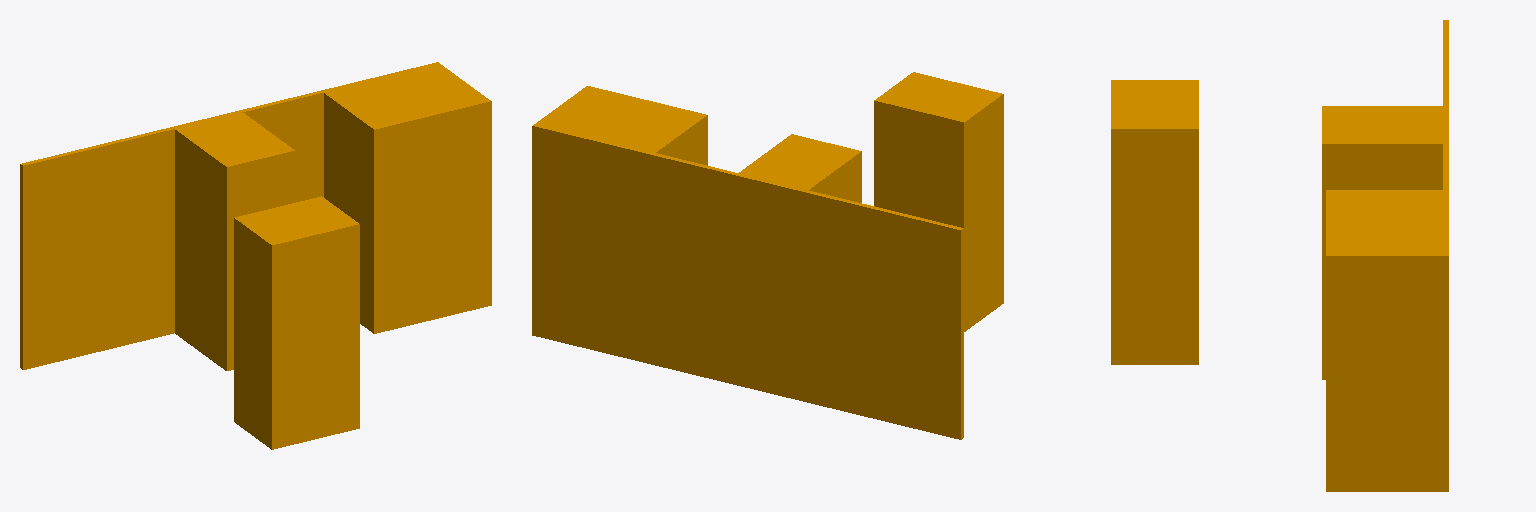
The robot description file, URDF, robot "Floorplan_demo_ROPOD":
<?xml version="1.0"?>
<robot name="Floorplan_demo_ROPOD">


<link name="map">
	<inertial>
		<mass value="500"/>
		<inertia
			ixx="1000.0" ixy="0.0" ixz="0.0"
			iyy="1000.0" iyz="0.0"
			izz="1000.0"/>
	</inertial>	  
	
	<visual name="map_visual">
		<origin rpy="0 0 0" xyz="0 0 0"/>
		<geometry>
			<mesh 
				filename="package://ed_object_models/models/malaga_test/walls/shape/malaga_test_map.stl"
				scale="0.001 0.001 0.002"		
			/>
		</geometry>
	</visual>
	
	<collision name="map_collision">	
		<origin rpy="0 0 0" xyz="0 0 0"/>	
		<geometry>
			<mesh 
				filename="package://ed_object_models/models/malaga_test/walls/shape/malaga_test_map.stl"
				scale="0.001 0.001 0.002"		
			/>
		</geometry>
	</collision>   

</link>  

<gazebo reference="map">
	<maxContacts>10</maxContacts>
	<laserRetro>0</laserRetro>
	<dampingFactor>0.01</dampingFactor>
	<selfCollide>false</selfCollide>
</gazebo>

</robot>

--- Render facts (derived) ---
The picture shows the robot from 3 angles, left to right: view 1: azimuth 30°, elevation 25°; view 2: azimuth 150°, elevation 25°; view 3: azimuth 270°, elevation 25°; orthographic projection.
Model Floorplan_demo_ROPOD with 1 links and 0 joints (none), rooted at map, posed all joints at 0.
Links seen in each view (by area): view 1: map; view 2: map; view 3: map.
Link boxes in pixels (box(x1,y1,x2,y2)): map: box(20, 62, 491, 449); map: box(532, 72, 1003, 439); map: box(1111, 20, 1448, 491).
Bounding box of the posed robot: 4.28 × 2.6 × 2 m (x, y, z).
Meshes: 1 distinct files referenced, 1 mesh visuals loaded (1 ASCII STL).